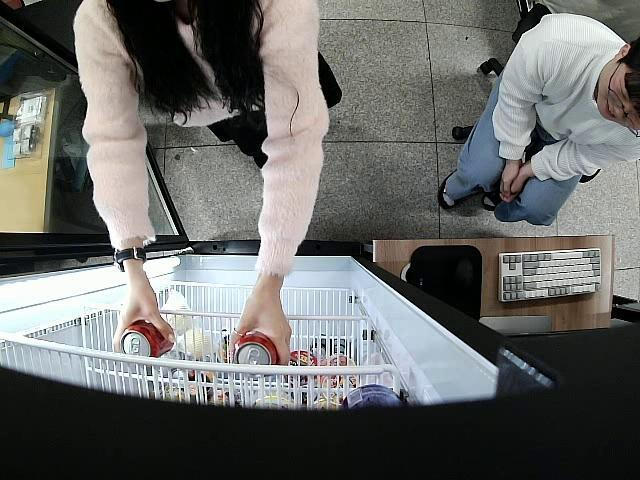11_cocaColaZero: (120, 320, 175, 357), (234, 332, 279, 372)
